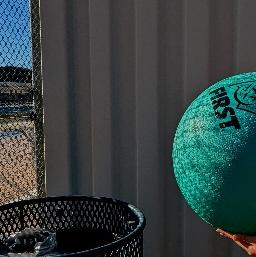algae: (175, 68, 256, 233)
